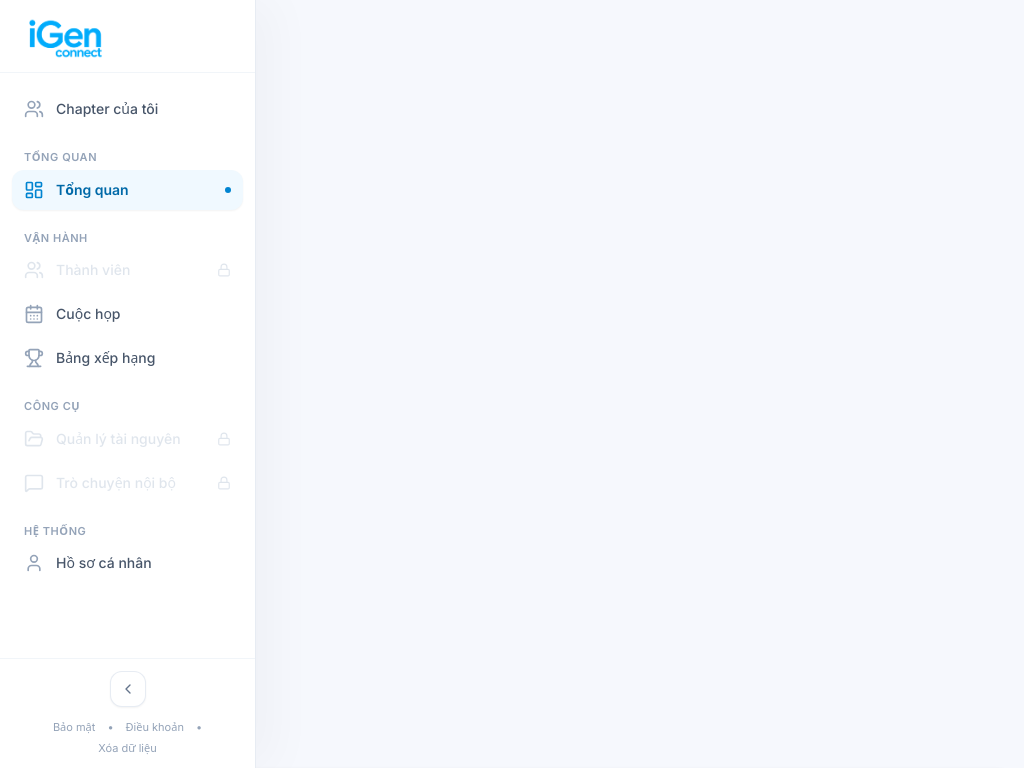
lets a member open overview from the menu and load meeting statistics without user-management access
Click the button "Tổng quan" at (128, 190), box 12,170 -> 243,210
(page scrolled)
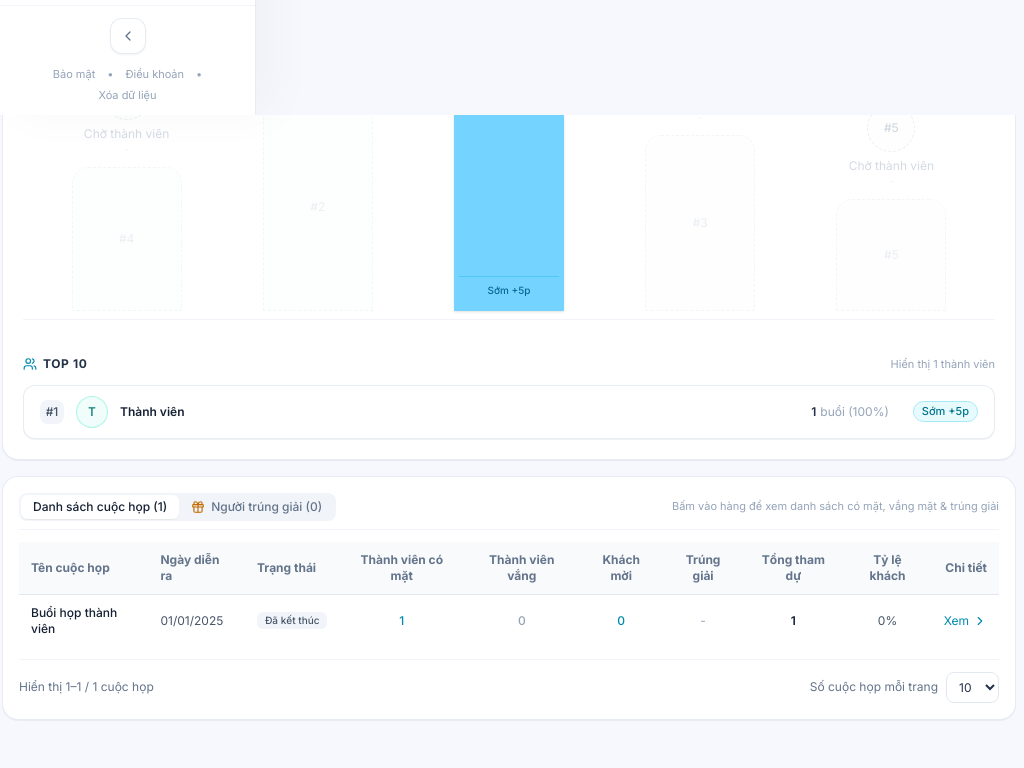
expect the text "Buổi họp thành viên" is shown: met, box 19,594 -> 148,646
